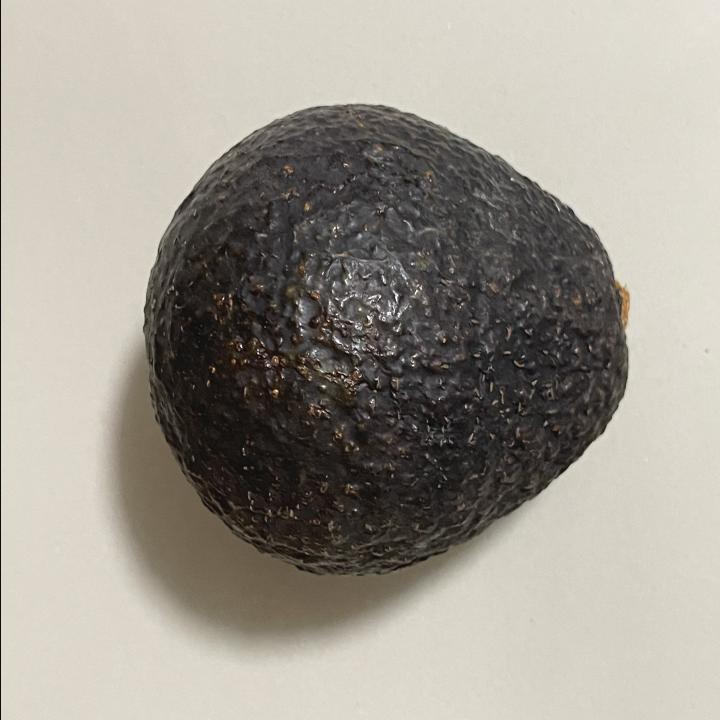Level3: (135, 90, 643, 590)
